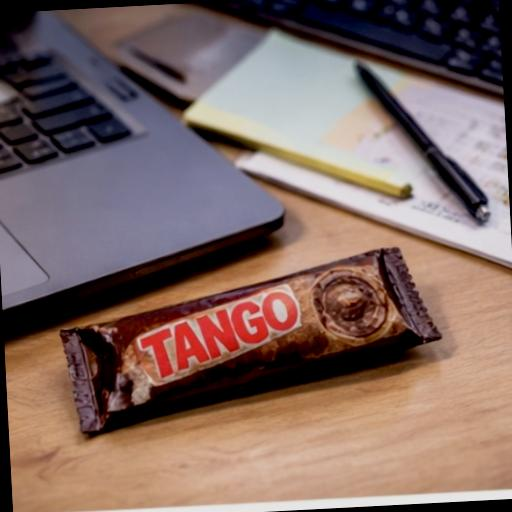tango: (26, 234, 465, 450)
